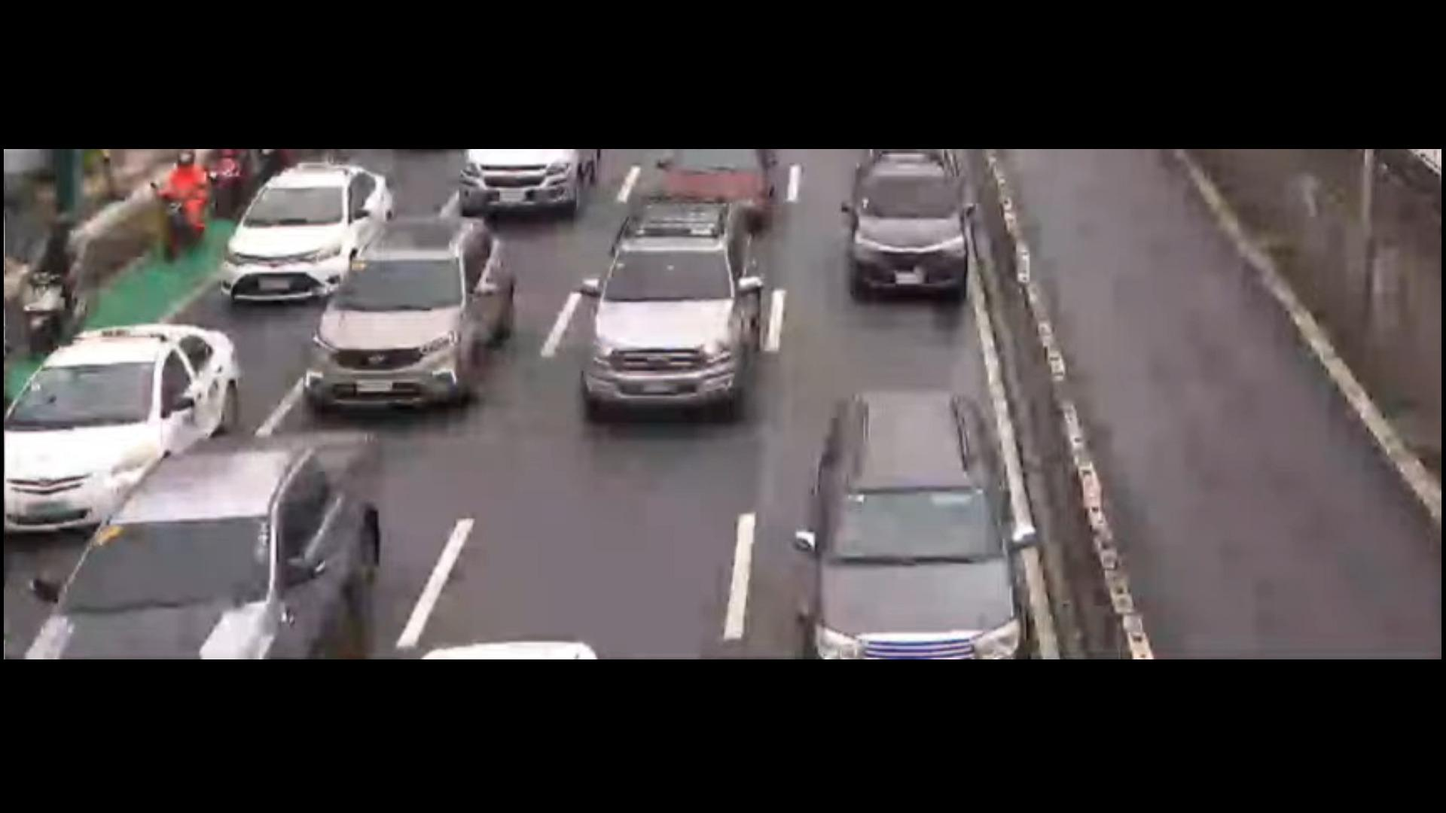Motorcycle: (4, 190, 119, 340), (149, 155, 211, 249), (203, 142, 277, 200)
Pickup: (21, 435, 384, 660)
SUV: (801, 375, 1027, 657), (291, 212, 527, 417), (569, 192, 769, 424), (827, 149, 1002, 316)
Sedan: (0, 300, 241, 536), (197, 142, 401, 308)
